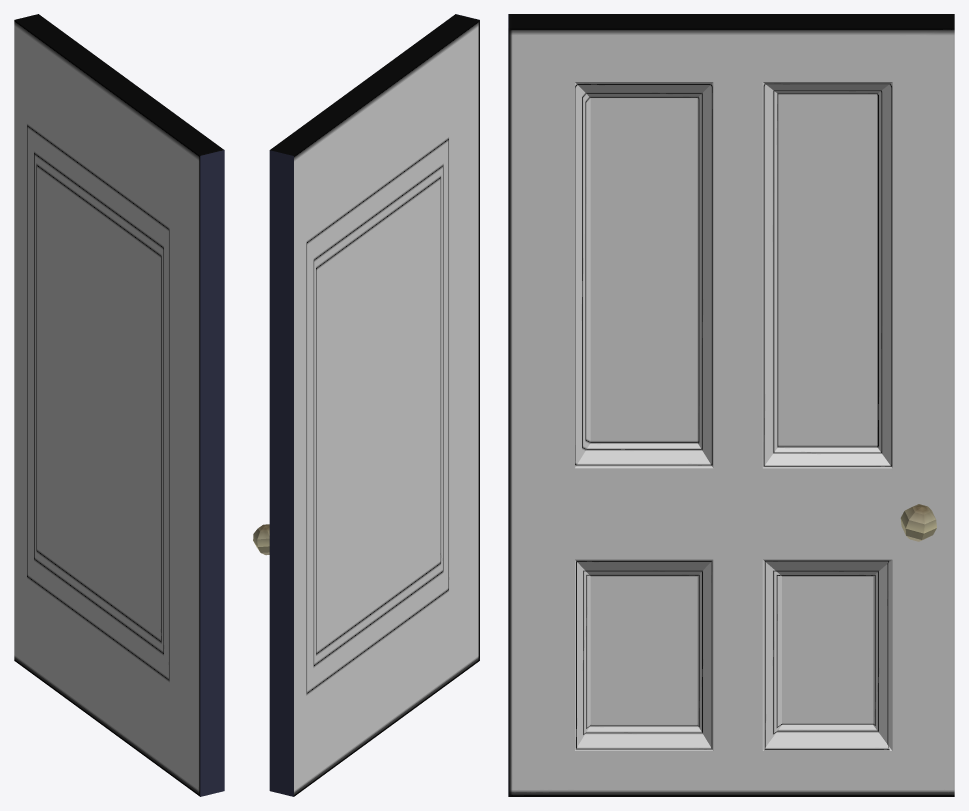
The model's file is door2.obj.
3 renders of one model, left to right at view 1: azimuth 30°, elevation 25°; view 2: azimuth 150°, elevation 25°; view 3: azimuth 270°, elevation 25°, orthographic. The views are drawn at different scales.
Visible parts, largest first — view 1: pCube19; view 2: pCube19, pSphere1; view 3: pCube19, pSphere1.
Boxes of the visible parts, x1,y1,x2,y2 form: pCube19: (14,14,224,796); pCube19: (269,14,479,796); pSphere1: (253,524,269,555); pCube19: (508,14,954,796); pSphere1: (900,504,936,541).
Size of the model in its own units: 6.95 by 79.43 by 41.79.
Materials: 2 (2 with a texture image).
